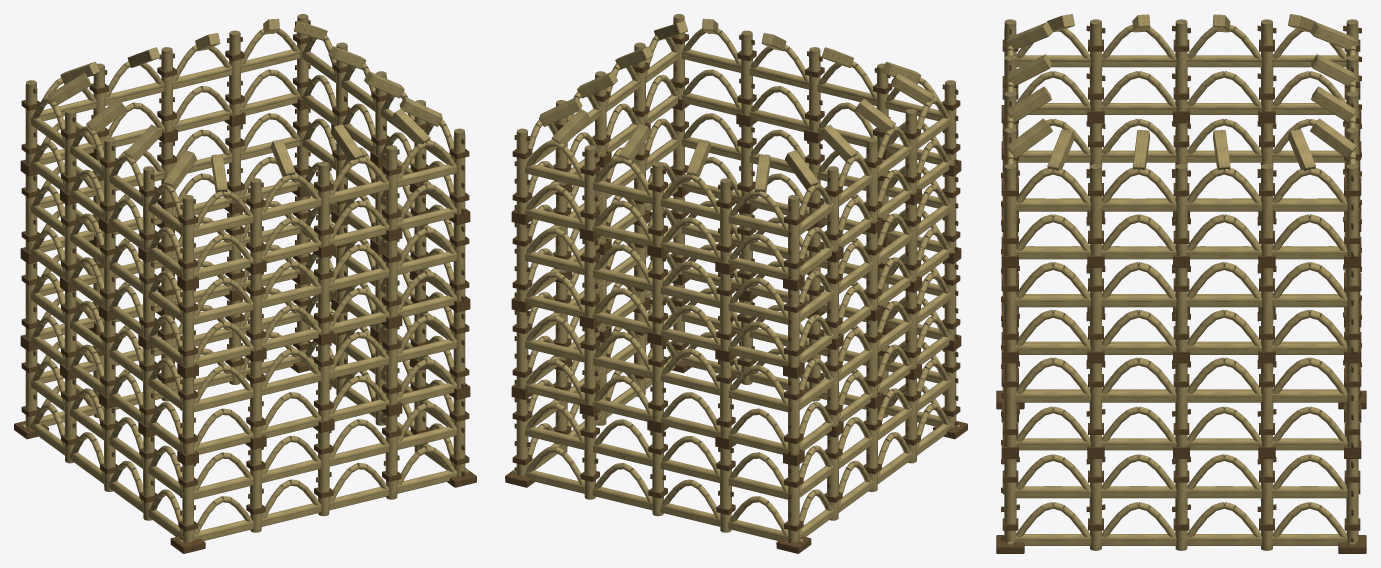
3 renders of one model, left to right at view 1: azimuth 30°, elevation 25°; view 2: azimuth 150°, elevation 25°; view 3: azimuth 270°, elevation 25°, orthographic. The views are drawn at different scales.
Visible parts, largest first — view 1: Tier 3 side 0 post 0, Tier 3 side 0 post 3, Tier 3 side 1 post 0, Tier 0 side 0 post 3, Tier 3 side 0 post 2, Tier 3 side 0 post 1, Tier 3 side 2 post 1, Tier 3 side 2 post 2, Tier 0 side 0 post 1, Tier 0 side 0 post 2, Tier 0 side 0 post 0, Tier 3 side 3 post 0 (+38 smaller); view 2: Tier 3 side 2 post 0, Tier 3 side 2 post 1, Tier 0 side 2 post 1, Tier 3 side 3 post 0, Tier 3 side 2 post 2, Tier 3 side 2 post 3, Tier 3 side 0 post 3, Tier 3 side 0 post 2, Tier 0 side 2 post 3, Tier 0 side 2 post 2, Tier 1 side 2 post 0, Tier 2 side 2 post 0 (+37 smaller); view 3: Tier 3 side 3 post 2, Tier 3 side 1 post 0, Tier 0 side 1 post 2, Tier 3 side 1 post 2, Tier 3 side 2 post 0, Tier 3 side 3 post 1, Tier 3 side 3 post 3, Tier 0 side 1 post 3, Tier 3 side 1 post 3, Tier 0 side 1 post 1, Tier 3 side 1 post 1, Tier 2 side 1 post 0 (+80 smaller).
Part boxes in pixels (<box>): Tier 3 side 0 post 0: <box>182,195,193,279</box>; Tier 3 side 0 post 3: <box>385,145,397,230</box>; Tier 3 side 1 post 0: <box>453,128,465,213</box>; Tier 0 side 0 post 3: <box>385,414,397,499</box>; Tier 3 side 0 post 2: <box>318,161,329,246</box>; Tier 3 side 0 post 1: <box>250,178,261,263</box>; Tier 3 side 2 post 1: <box>229,30,240,115</box>; Tier 3 side 2 post 2: <box>161,47,172,132</box>; Tier 0 side 0 post 1: <box>250,447,261,532</box>; Tier 0 side 0 post 2: <box>318,431,329,516</box>; Tier 0 side 0 post 0: <box>182,464,193,542</box>; Tier 3 side 3 post 0: <box>25,80,37,165</box>; Tier 3 side 2 post 0: <box>516,128,528,213</box>; Tier 3 side 2 post 1: <box>584,145,596,230</box>; Tier 0 side 2 post 1: <box>584,414,596,499</box>; Tier 3 side 3 post 0: <box>788,195,799,279</box>; Tier 3 side 2 post 2: <box>652,161,663,246</box>; Tier 3 side 2 post 3: <box>720,178,731,263</box>; Tier 3 side 0 post 3: <box>741,30,752,115</box>; Tier 3 side 0 post 2: <box>809,47,820,132</box>; Tier 0 side 2 post 3: <box>720,448,731,532</box>; Tier 0 side 2 post 2: <box>652,431,663,516</box>; Tier 1 side 2 post 0: <box>516,310,528,388</box>; Tier 2 side 2 post 0: <box>516,223,528,301</box>; Tier 3 side 3 post 2: <box>1175,19,1187,111</box>; Tier 3 side 1 post 0: <box>1004,164,1016,255</box>; Tier 0 side 1 post 2: <box>1175,459,1187,550</box>; Tier 3 side 1 post 2: <box>1175,164,1187,255</box>; Tier 3 side 2 post 0: <box>1346,164,1358,255</box>; Tier 3 side 3 post 1: <box>1260,19,1273,111</box>; Tier 3 side 3 post 3: <box>1089,19,1102,111</box>; Tier 0 side 1 post 3: <box>1260,459,1273,550</box>; Tier 3 side 1 post 3: <box>1260,164,1273,255</box>; Tier 0 side 1 post 1: <box>1089,459,1102,550</box>; Tier 3 side 1 post 1: <box>1089,164,1102,255</box>; Tier 2 side 1 post 0: <box>1004,268,1016,351</box>.
Bounding box in the file's own units: 1.95 × 2.34 × 1.95.
Materials: 2 (2 with a texture image).
